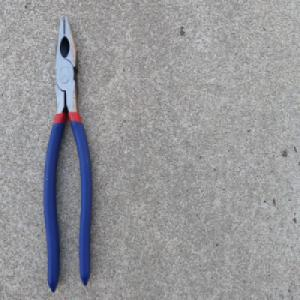Pliers: (41, 12, 93, 294)
